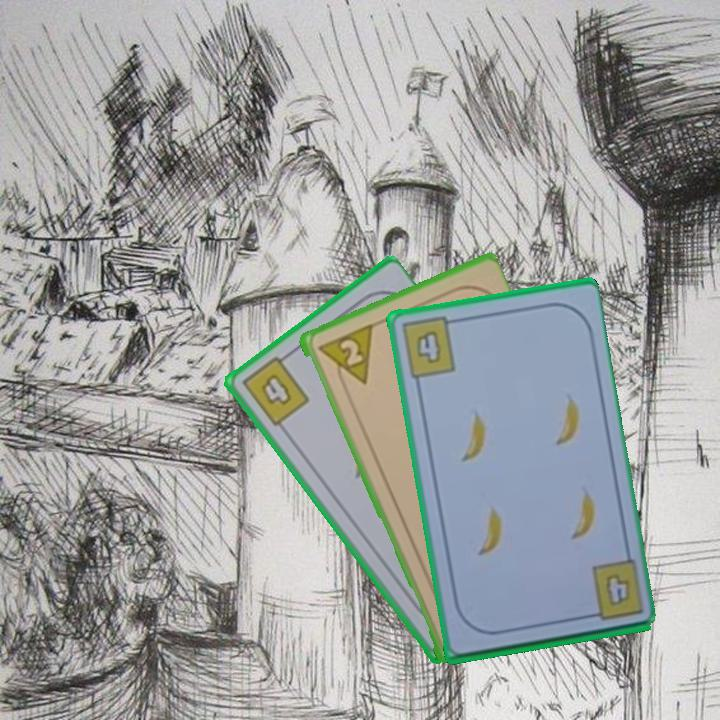2p: (313, 321, 375, 394)
4b: (238, 349, 313, 430), (397, 313, 461, 381), (601, 569, 633, 609)
